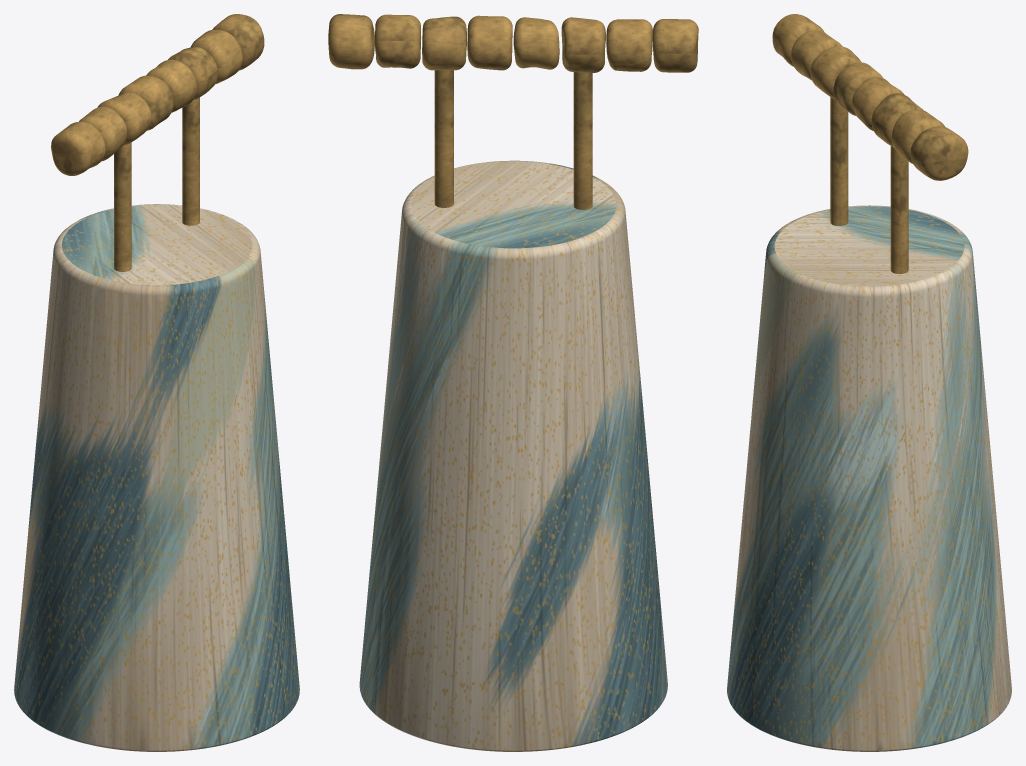
Rendered from knight-white-hd.glb.
The picture shows the model from 3 angles, left to right: view 1: azimuth 30°, elevation 25°; view 2: azimuth 150°, elevation 25°; view 3: azimuth 270°, elevation 25°; orthographic projection. The views are drawn at different scales.
Visible parts, largest first — view 1: Telo, Koralek_1, Sloupek_1, Sloupek_2, Koralek_7, Koralek_8, Koralek_4, Koralek_5, Koralek_3, Koralek_2, Koralek_6; view 2: Telo, Sloupek_2, Sloupek_1, Koralek_8, Koralek_7, Koralek_1, Koralek_5, Koralek_2, Koralek_6, Koralek_3, Koralek_4; view 3: Telo, Koralek_8, Sloupek_1, Sloupek_2, Koralek_3, Koralek_7, Koralek_5, Koralek_6, Koralek_2, Koralek_1, Koralek_4.
Part boxes in pixels (left/top/right/bottom): Telo: left=14, top=204, right=299, bottom=751; Koralek_1: left=51, top=121, right=105, bottom=175; Sloupek_1: left=114, top=142, right=131, bottom=271; Sloupek_2: left=182, top=97, right=199, bottom=225; Koralek_7: left=190, top=30, right=242, bottom=83; Koralek_8: left=212, top=14, right=264, bottom=70; Koralek_4: left=118, top=75, right=173, bottom=130; Koralek_5: left=146, top=59, right=197, bottom=112; Koralek_3: left=97, top=92, right=151, bottom=145; Koralek_2: left=79, top=106, right=127, bottom=161; Koralek_6: left=168, top=47, right=217, bottom=100; Telo: left=359, top=160, right=667, bottom=751; Sloupek_2: left=434, top=70, right=453, bottom=207; Sloupek_1: left=573, top=72, right=592, bottom=209; Koralek_8: left=328, top=14, right=374, bottom=69; Koralek_7: left=374, top=14, right=421, bottom=68; Koralek_1: left=653, top=19, right=698, bottom=72; Koralek_5: left=467, top=15, right=512, bottom=70; Koralek_2: left=606, top=19, right=652, bottom=71; Koralek_6: left=422, top=16, right=467, bottom=70; Koralek_3: left=561, top=17, right=605, bottom=72; Koralek_4: left=513, top=17, right=559, bottom=69; Telo: left=727, top=205, right=1011, bottom=751; Koralek_8: left=910, top=126, right=968, bottom=180; Sloupek_1: left=830, top=97, right=848, bottom=225; Sloupek_2: left=890, top=146, right=908, bottom=273; Koralek_3: left=810, top=46, right=861, bottom=99; Koralek_7: left=891, top=109, right=944, bottom=163; Koralek_5: left=852, top=77, right=904, bottom=130; Koralek_6: left=871, top=93, right=923, bottom=147; Koralek_2: left=791, top=30, right=842, bottom=80; Koralek_1: left=772, top=14, right=824, bottom=66; Koralek_4: left=833, top=62, right=882, bottom=115.
Size of the model in its own units: 0.7088 by 1.54 by 0.6431.
Materials: 3 (3 with a texture image).
